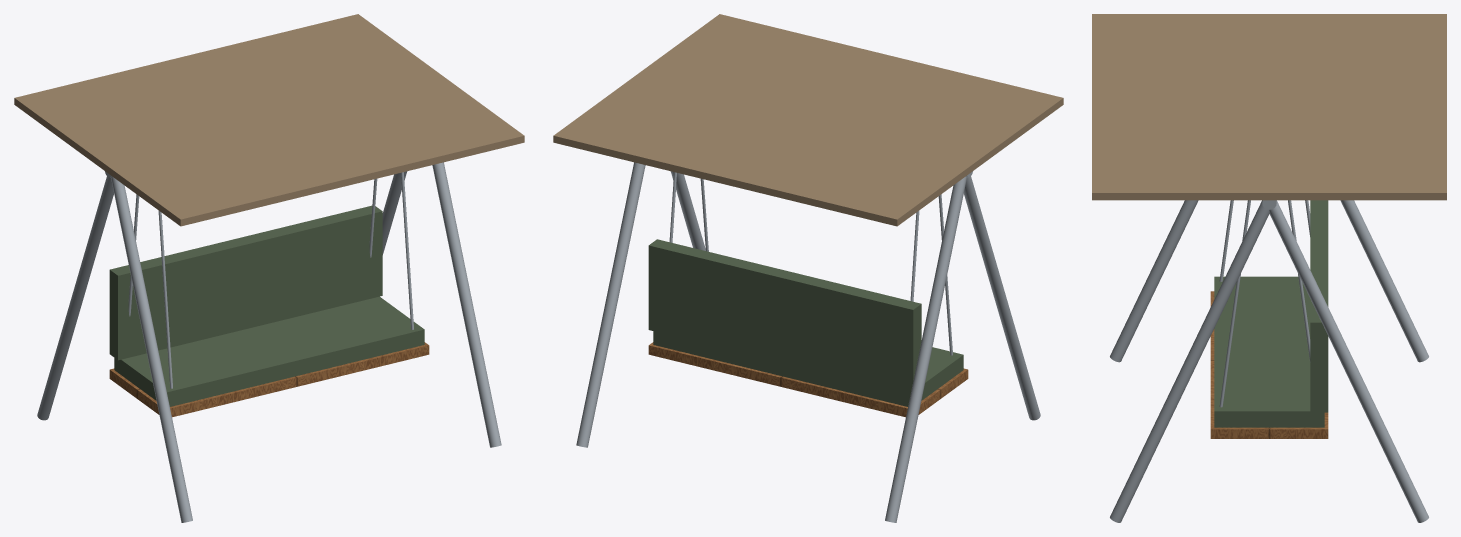
File: Hintaagy_3_szemelyes.obj
3 views of the same model, side by side, from view 1: azimuth 30°, elevation 25°; view 2: azimuth 150°, elevation 25°; view 3: azimuth 270°, elevation 25° (orthographic). The views are drawn at different scales.
Size of the model in its own units: 2.34 by 2.06 by 1.96.
5 materials, 1 textured.
